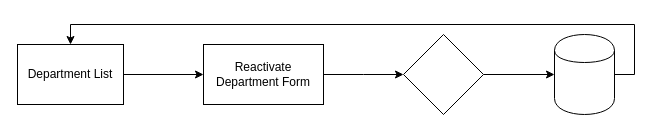
This 660x132 diagram has some shape labels left out. Each missing label, with the centre of its shape:
"Database" belongs at (584,74).
"Validation" belongs at (443,74).
